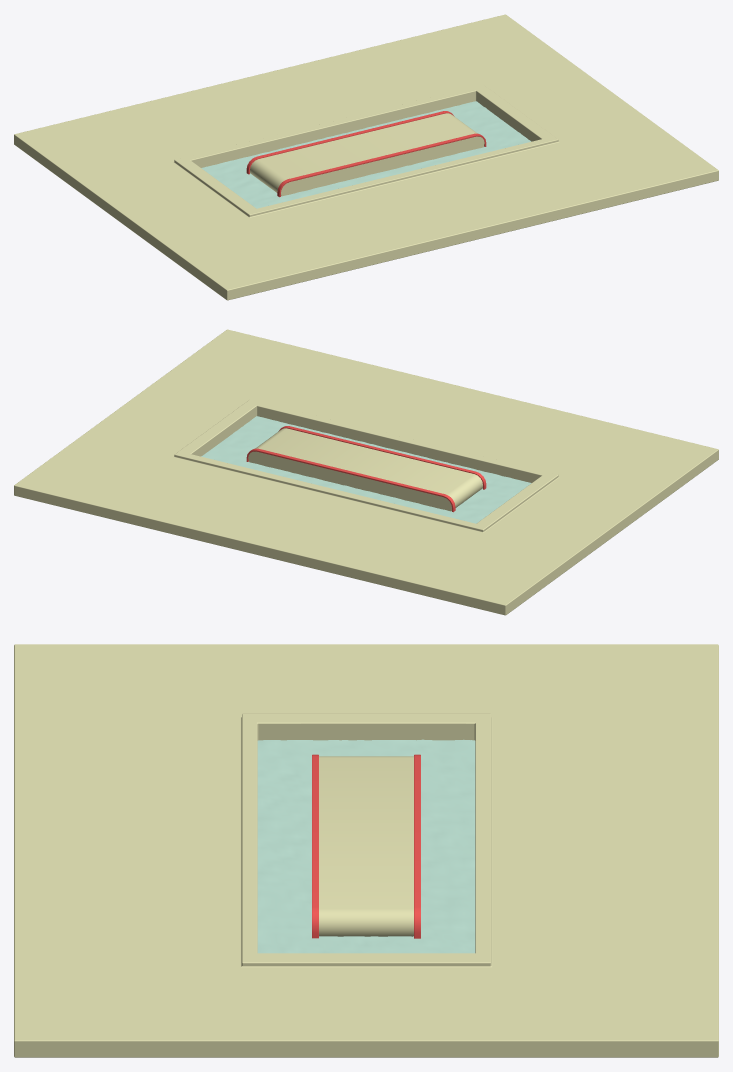
File: arena.fbx
3 views of the same model, one above another, from view 1: azimuth 30°, elevation 25°; view 2: azimuth 150°, elevation 25°; view 3: azimuth 270°, elevation 25° (orthographic). The views are drawn at different scales.
Parts seen in each view (by area): view 1: Cube.003, Plane, Plane.001, Cube.002; view 2: Cube.003, Plane, Plane.001, Cube.002; view 3: Cube.003, Plane.001, Plane, Cube.002.
Part boxes in pixels (x1,y1,x2,y2): Cube.003: (14, 14, 718, 300); Plane: (250, 113, 484, 196); Plane.001: (201, 101, 530, 208); Cube.002: (246, 111, 486, 197); Cube.003: (14, 329, 718, 615); Plane: (248, 428, 482, 511); Plane.001: (201, 416, 531, 523); Cube.002: (246, 426, 486, 512); Cube.003: (14, 644, 718, 1057); Plane.001: (257, 739, 475, 953); Plane: (319, 756, 413, 936); Cube.002: (312, 754, 420, 938).
Bounding box in the file's own units: 17698 × 640 × 13296.
